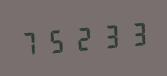five: (44, 23, 69, 57)
seven: (18, 25, 43, 59)
three: (96, 18, 121, 52), (122, 16, 147, 50)
two: (70, 21, 95, 54)
